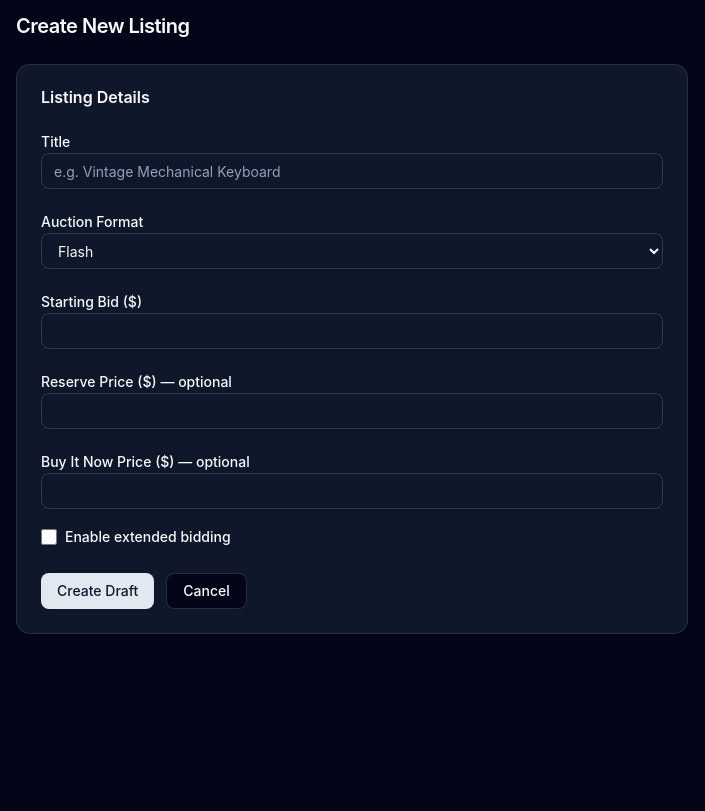
it: CreateListingPage › hides extended-bidding fields when checkbox is unchecked
The image size is (705, 811).
Expected: the field labelled "Title" is shown, [41,153,663,189]
Click the checkbox labelled "Enable extended bidding" at point(49, 537), box [41,529,57,545]
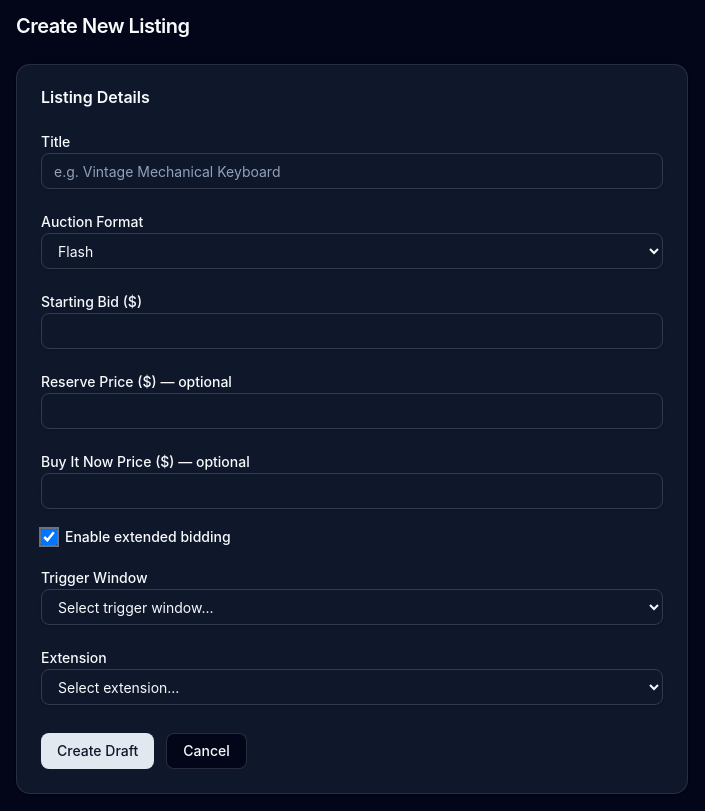
Expected: the dropdown labelled "Trigger Window" is shown, [41,589,663,625]
Click the checkbox labelled "Enable extended bidding" at point(49, 537), box [41,529,57,545]
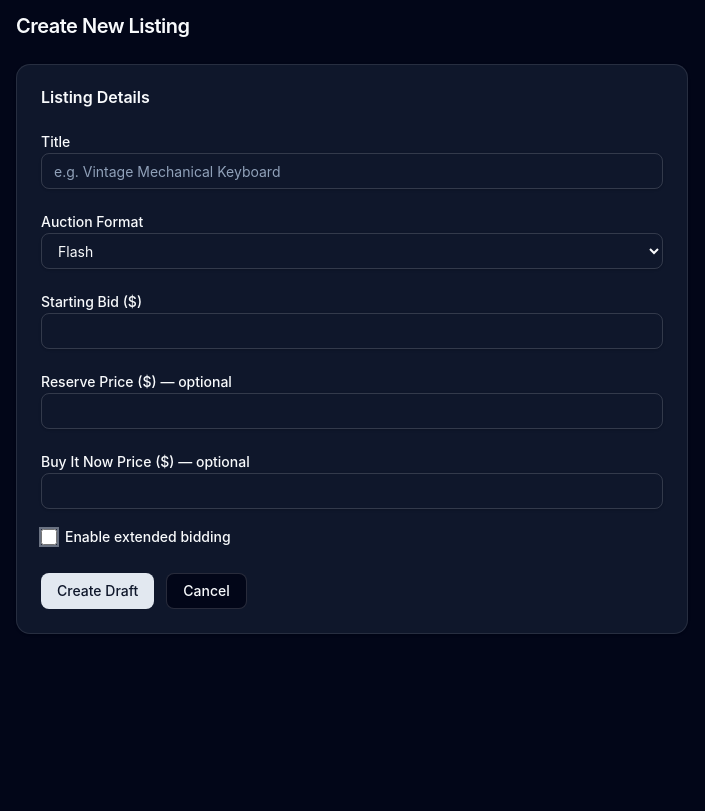
Expected: the label labelled "Trigger Window" is gone
